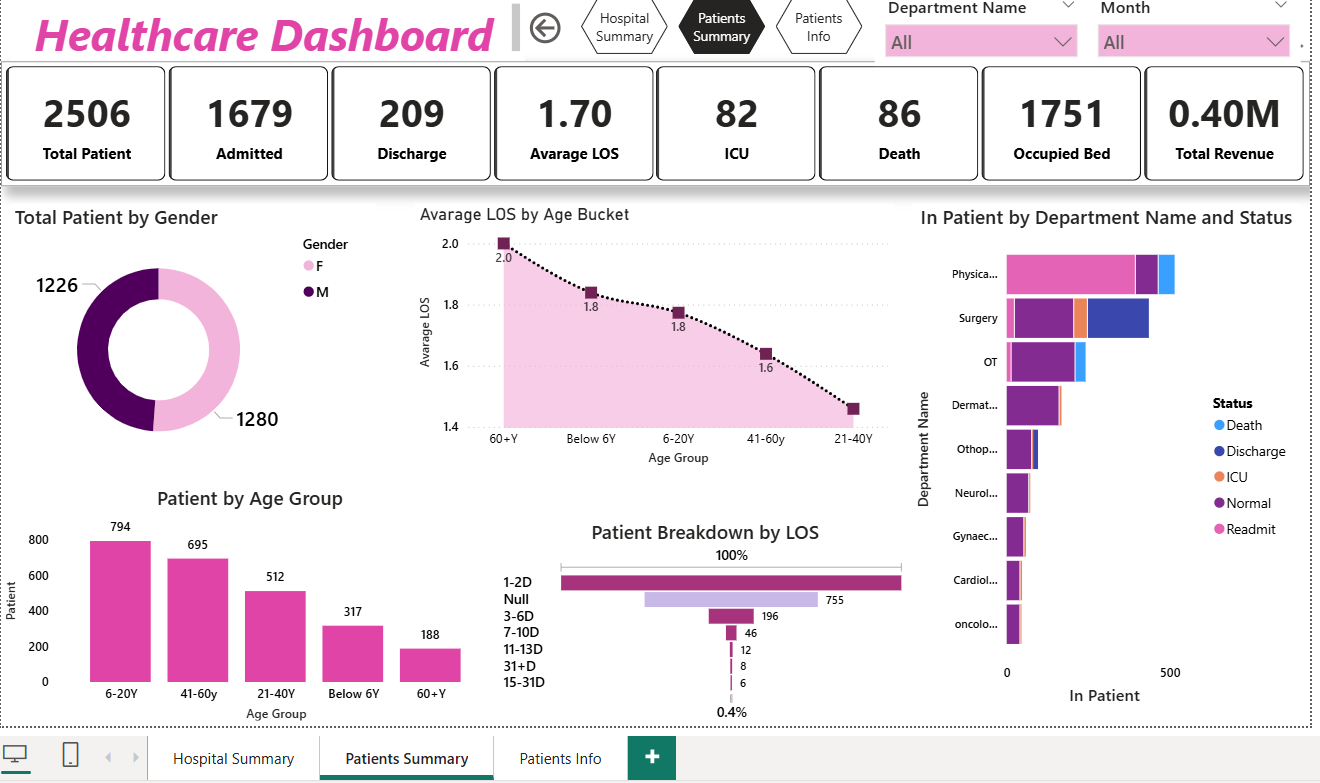

Layout of this report page (visuals, bound fields, positions):
{"tool":"powerbi","page":{"name":"Patients Summary","canvas":[1280,720],"ordinal":1},"visuals":[{"type":"cardVisual","fields":{"Data":["Detail data dataset.Total Patient","Detail data dataset.In_Patinet","Detail data dataset.Total Discharge","Detail data dataset.Avarage LOS","Detail data dataset.ICU","Detail data dataset.Death","Bed_Detail.Occupied Bed","Detail data dataset.Total Revenue"]},"box":[0,69.7,1280.3,122.3],"z":0},{"type":"textbox","box":[8.6,8.6,503.8,61.1],"z":1000},{"type":"barChart","title":"In Patient by Department Name and Status","fields":{"Category":["Department.Department_Name"],"Y":["Detail data dataset.In_Patinet"],"Series":["Detail data dataset.Status"]},"box":[891.4,208.6,380,495.7],"z":2000},{"type":"donutChart","fields":{"Y":["Detail data dataset.Total Patient"],"Category":["Detail data dataset.Gender"]},"box":[8.6,208.6,358.6,261.4],"z":3000},{"type":"columnChart","title":"Patient by Age Group","fields":{"Category":["Detail data dataset.Age Bucket"],"Y":["Detail data dataset.Total Patient"]},"box":[0,484.3,487.1,235.7],"z":4000},{"type":"slicer","fields":{"Values":["Department.Department_Name"]},"box":[854.3,0,208.6,74.3],"z":5000},{"type":"slicer","fields":{"Values":["Calendar_Date.MonthName"]},"box":[1062.9,0,208.6,74.3],"z":6000},{"type":"stackedAreaChart","fields":{"Category":["Detail data dataset.Age Bucket"],"Y":["Detail data dataset.Avarage LOS"]},"box":[404.3,208.6,468.6,261.4],"z":7000},{"type":"funnel","title":"Patient Breakdown by LOS","fields":{"Category":["Detail data dataset.Custom"],"Y":["Detail data dataset.Total Patient"]},"box":[487.1,517.1,404.3,202.9],"z":8000},{"type":"actionButton","box":[512.9,17.1,50,40],"z":9000},{"type":"pageNavigator","box":[567.1,8.6,277.1,54.3],"z":10000}]}

Visuals, with their boxes on the page's 1280x720 design canvas (x1, y1, x2, y2). These are canvas units, not pixel positions in the 1320x783 screenshot, which may show the page scaled, cropped or inside an application window:
cardVisual - Detail data dataset.Total Patient x Detail data dataset.In_Patinet: 0/70/1280/192
textbox: 9/9/512/70
"In Patient by Department Name and Status" barChart: 891/209/1271/704
donutChart - Detail data dataset.Total Patient x Detail data dataset.Gender: 9/209/367/470
"Patient by Age Group" columnChart: 0/484/487/720
slicer - Department.Department_Name: 854/0/1063/74
slicer - Calendar_Date.MonthName: 1063/0/1272/74
stackedAreaChart - Detail data dataset.Age Bucket x Detail data dataset.Avarage LOS: 404/209/873/470
"Patient Breakdown by LOS" funnel: 487/517/891/720
actionButton: 513/17/563/57
pageNavigator: 567/9/844/63
